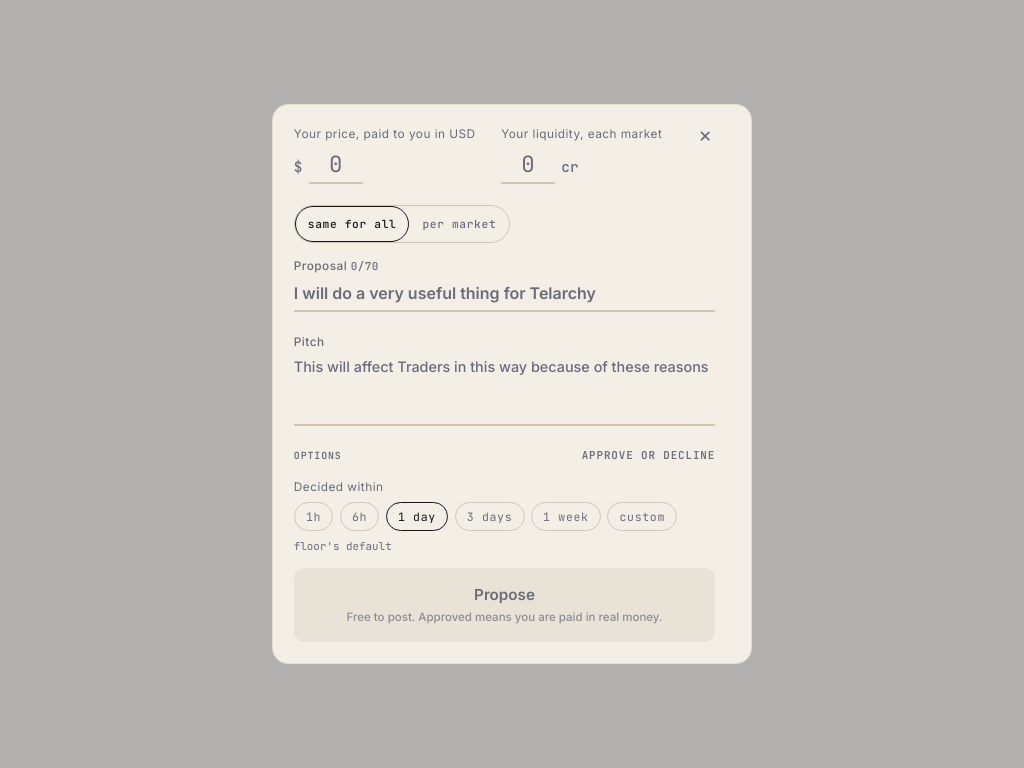
Test: per market: the proposer chooses per metric and date › switching back once the markets differ starts from nothing, never from a number nobody typed
Type "Ship it" into the field named "Proposal title" at point(504, 296), box [294,281,715,312]
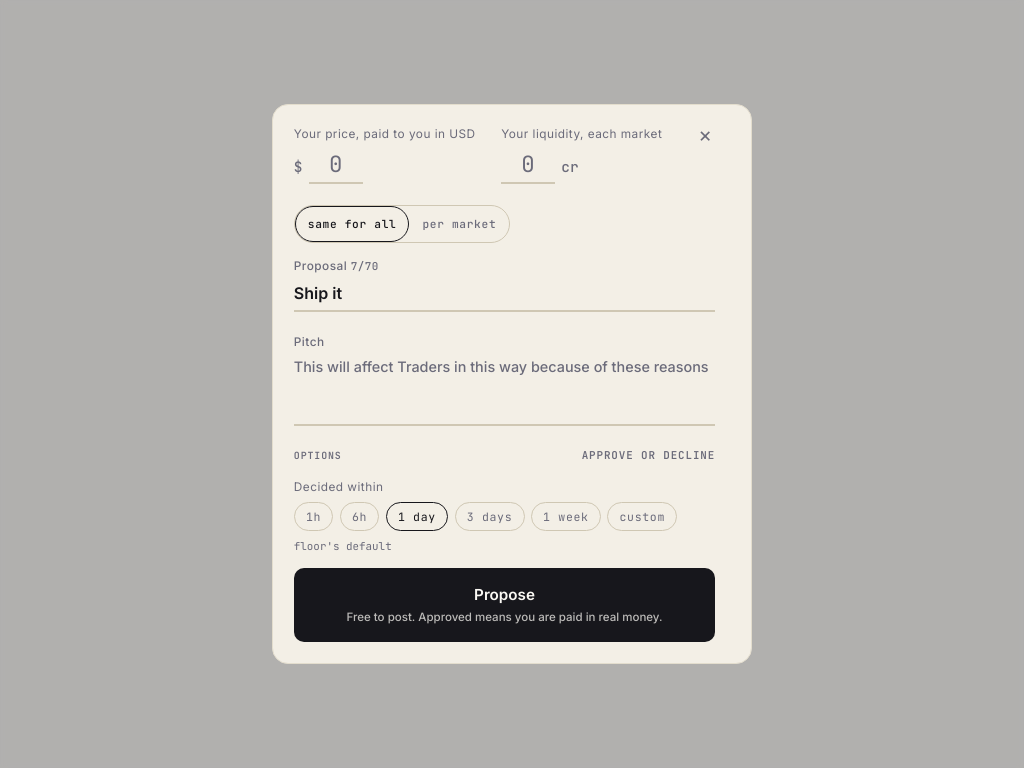
Type "100" into the field named "each market" at point(528, 166), box [501,148,555,184]
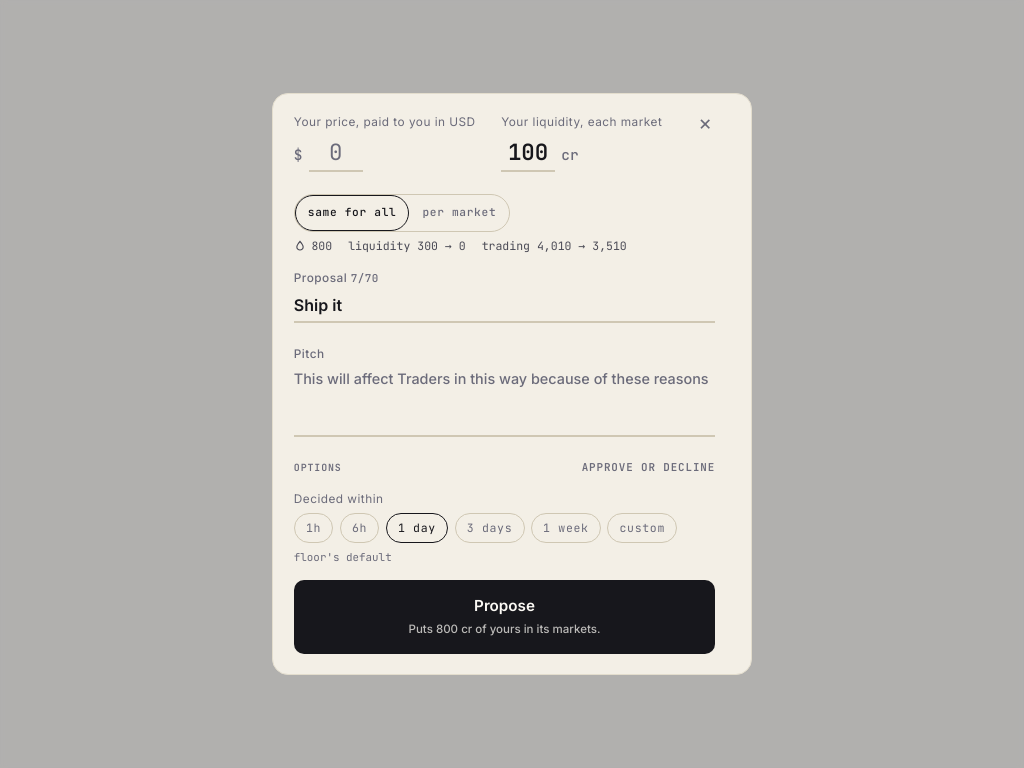
Click the button "per market" at point(459, 213), box [409,195,509,231]
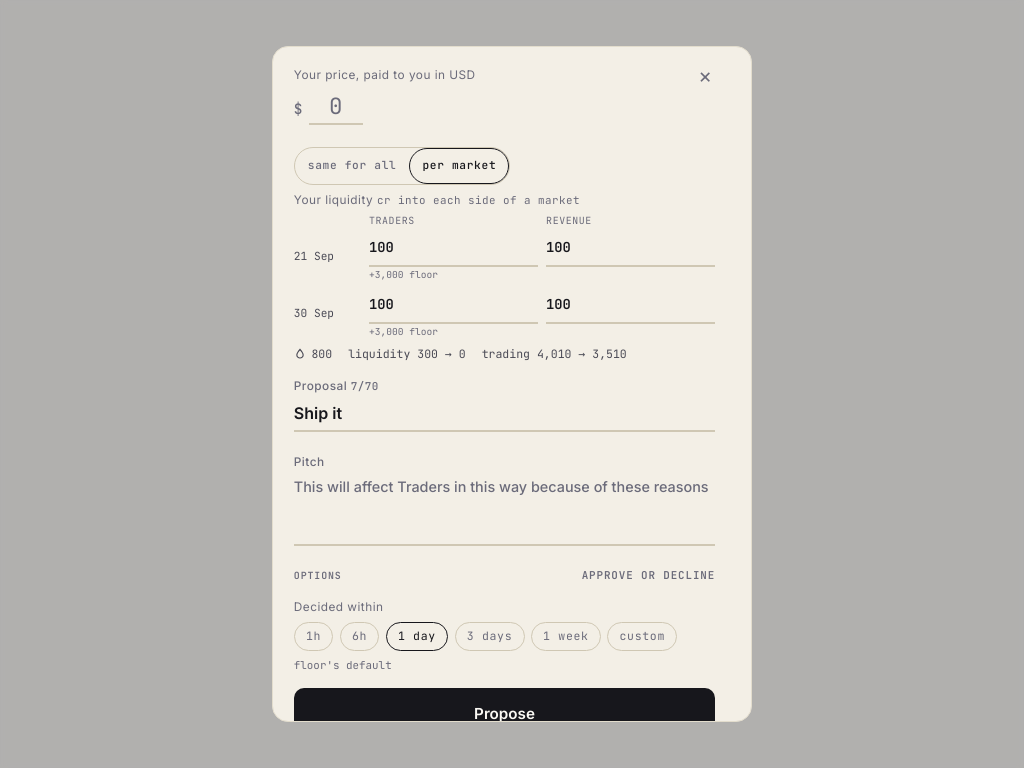
Replace the text in the field named "Traders, 30 Sep" with "500" at point(454, 306), box [369,288,538,324]
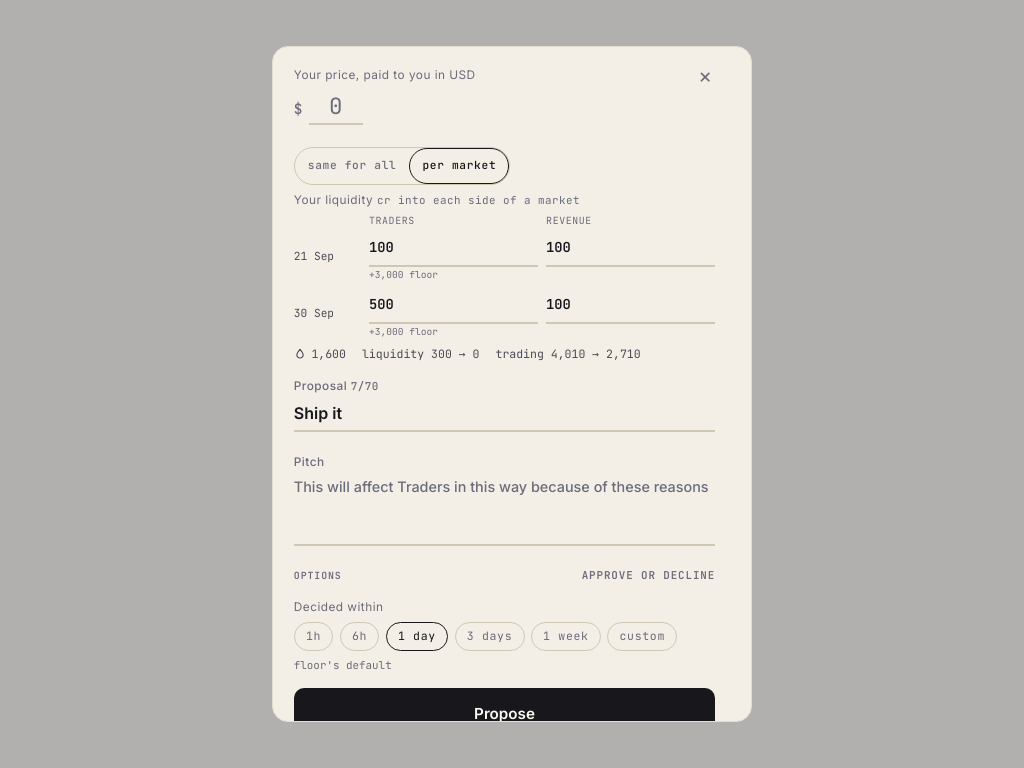
Click the button "same for all" at point(352, 166), box [295,148,409,184]
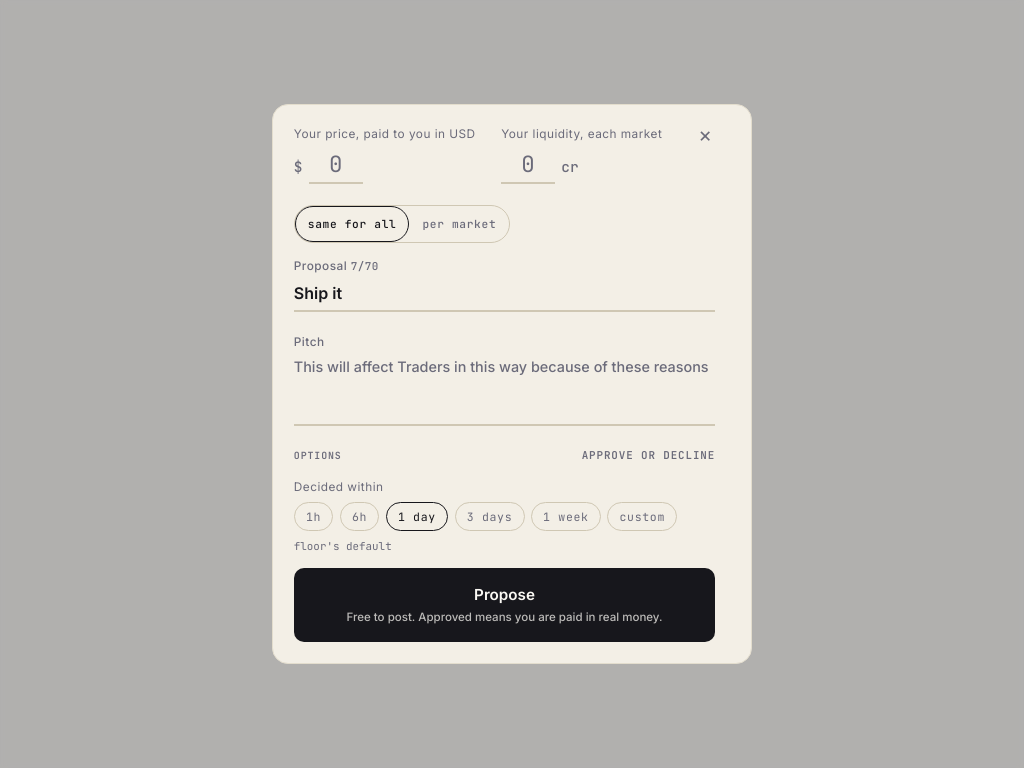
Result: the field named "each market" is empty at [501,148,555,184]
Result: the button with class "ticket-go" shows "Free to post" at [294,568,715,642]
